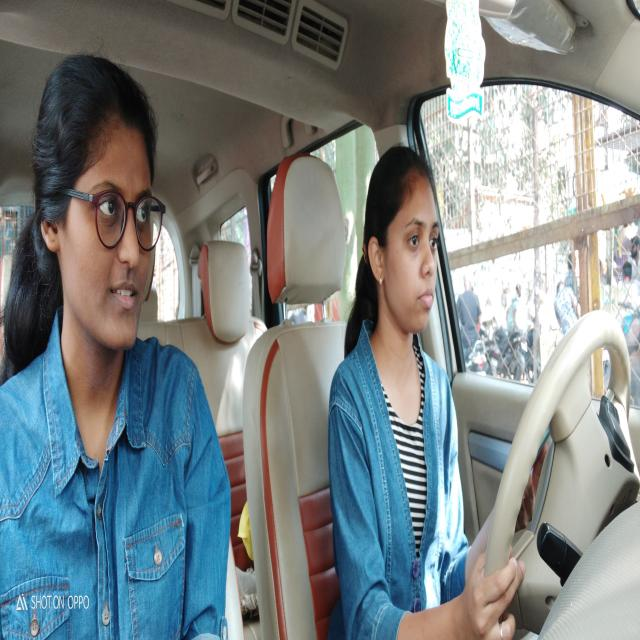person: (32, 49, 169, 358), (360, 137, 448, 348)
